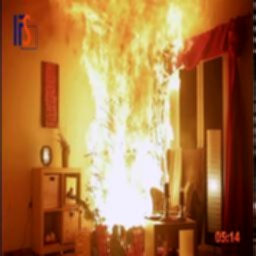fire: (44, 0, 196, 234)
